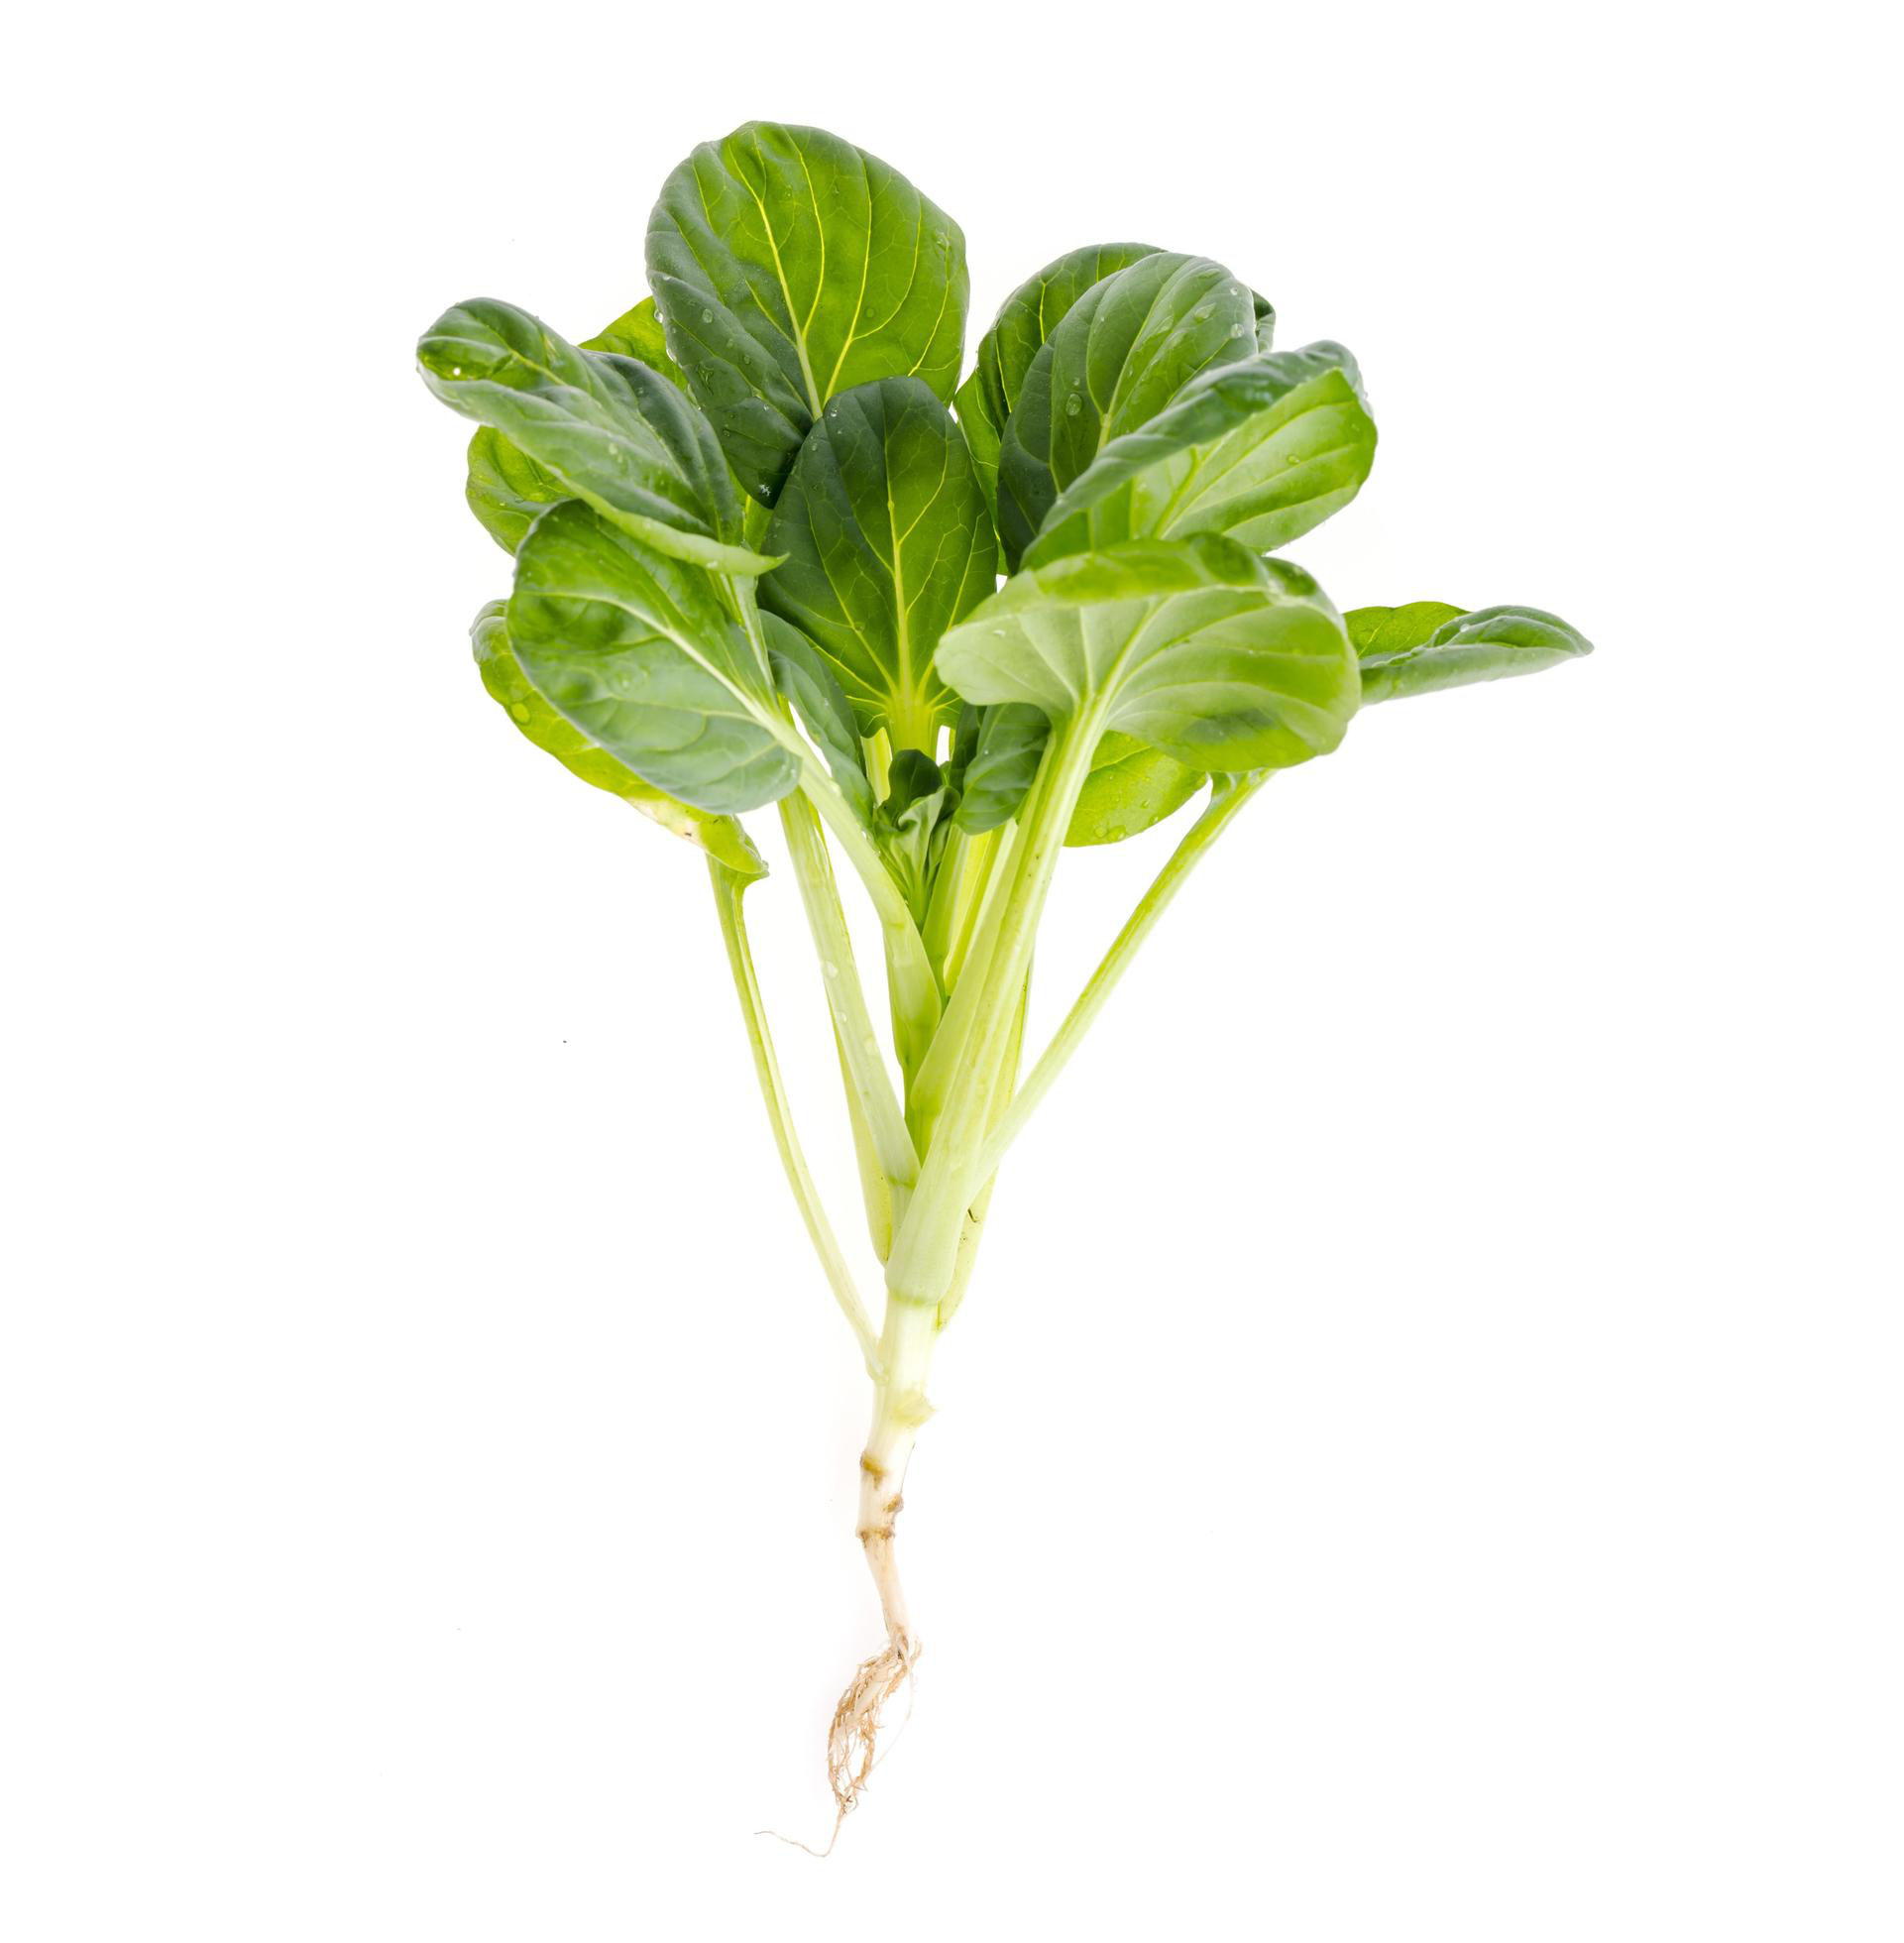Bayam: (260, 99, 1737, 1908)
